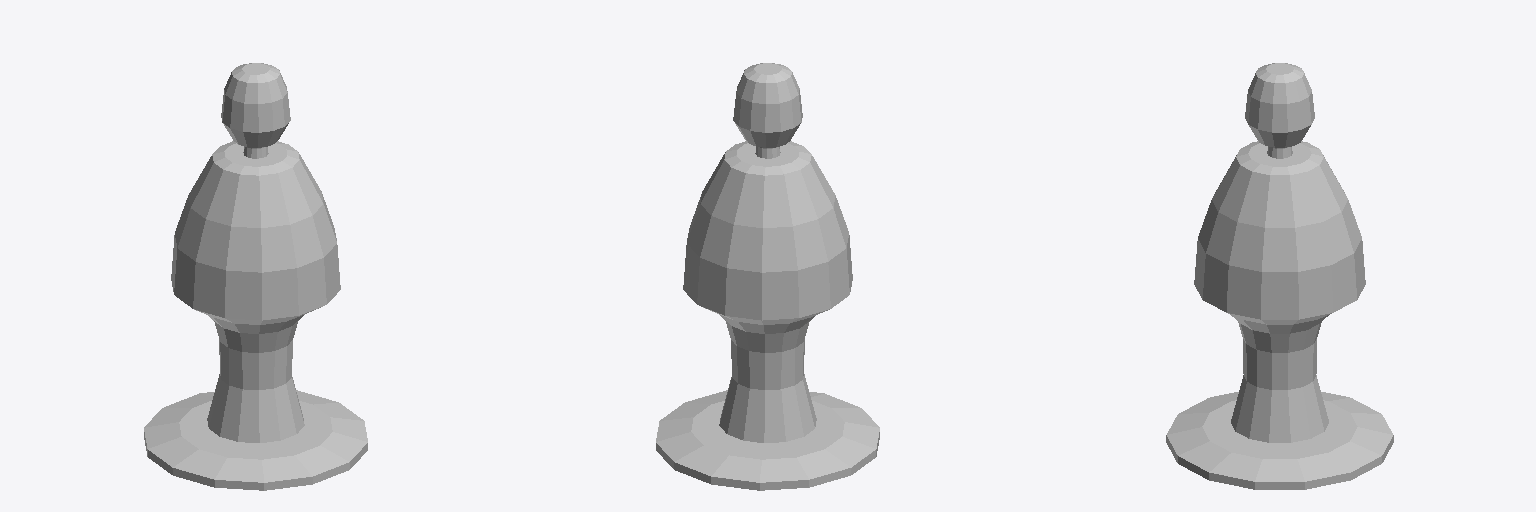
The model's file is human-short_002.obj.
The picture shows the model from 3 angles: view 1: azimuth 30°, elevation 25°; view 2: azimuth 150°, elevation 25°; view 3: azimuth 270°, elevation 25°; orthographic projection.
Parts seen in each view (by area): view 1: human-short.002; view 2: human-short.002; view 3: human-short.002.
Part boxes in pixels (left/top/right/bottom): human-short.002: left=144, top=63, right=367, bottom=490; human-short.002: left=656, top=63, right=879, bottom=490; human-short.002: left=1166, top=63, right=1393, bottom=489.
Bounding box in the file's own units: 0.85 × 1.58 × 0.8719.